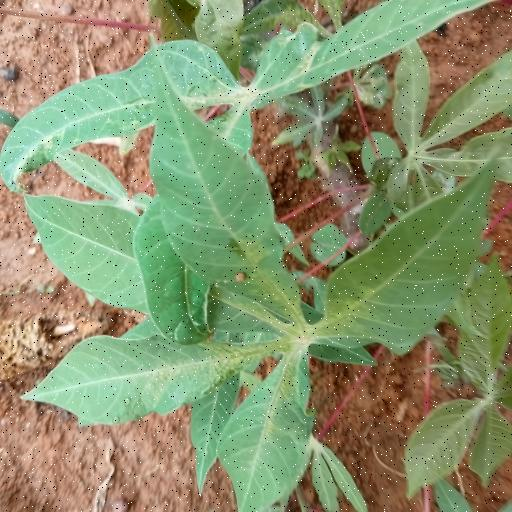Cassava_Mosaic: (28, 114, 492, 498)
